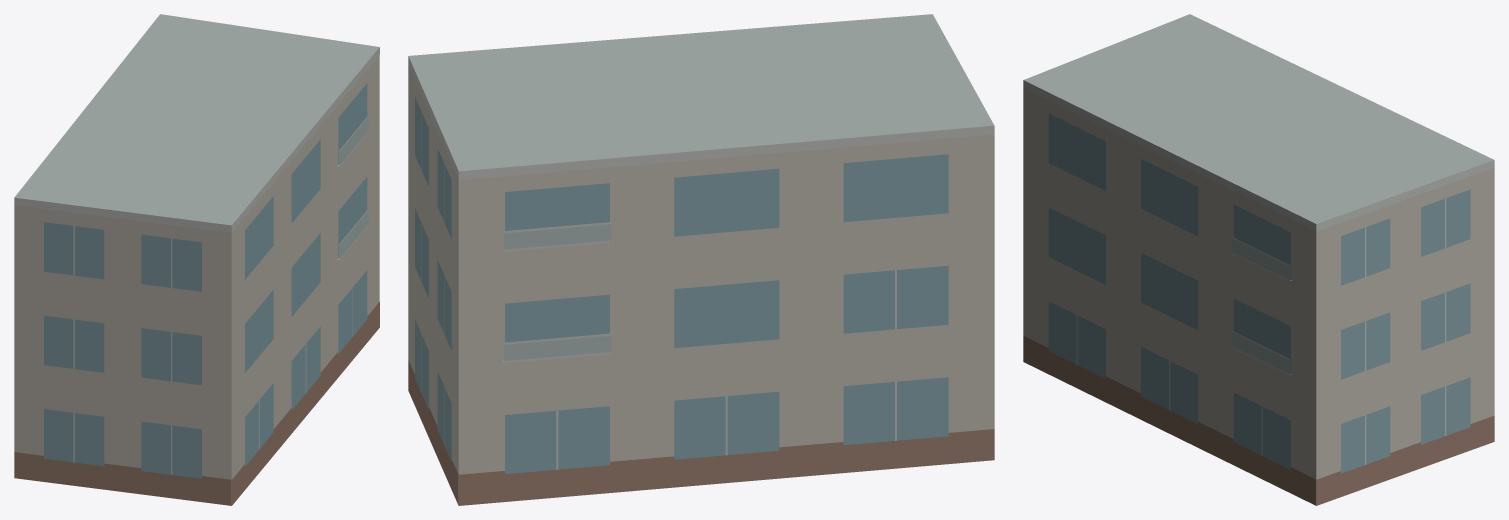
File: survey-upis-32658930.glb
3 views of the same model, side by side, from view 1: azimuth 30°, elevation 25°; view 2: azimuth 150°, elevation 25°; view 3: azimuth 270°, elevation 25° (orthographic). The views are drawn at different scales.
Visible parts, largest first — view 1: survey-upis-32658930.tmp; view 2: survey-upis-32658930.tmp; view 3: survey-upis-32658930.tmp.
Part boxes in pixels (left/top/right/bottom): survey-upis-32658930.tmp: left=14, top=14, right=379, bottom=505; survey-upis-32658930.tmp: left=408, top=14, right=994, bottom=505; survey-upis-32658930.tmp: left=1023, top=14, right=1494, bottom=505.
Size of the model in its own units: 14.64 by 9.15 by 13.87.
